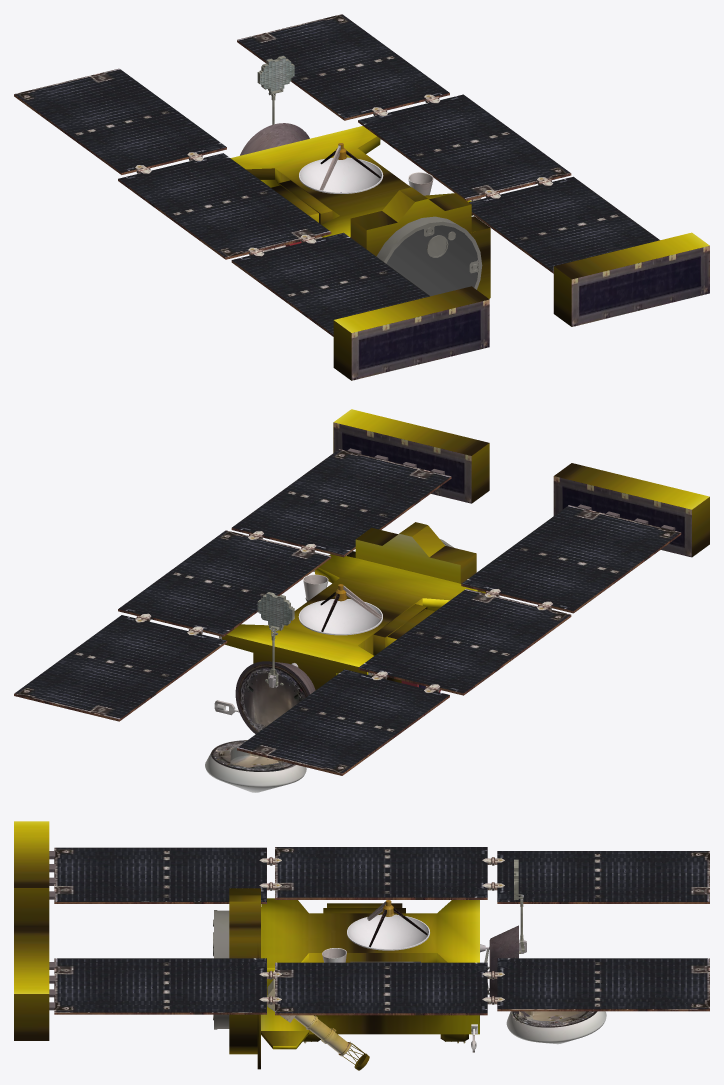
File: stardust.glb
3 views of the same model, one above another, from view 1: azimuth 30°, elevation 25°; view 2: azimuth 150°, elevation 25°; view 3: azimuth 270°, elevation 25° (orthographic).
Visible parts, largest first — view 1: shiny_panels, gold_foil, foil_silver, Stardust_tex_02, Stardust_tex_03; view 2: shiny_panels, gold_foil, Stardust_tex_03, Stardust_tex_02; view 3: shiny_panels, gold_foil, Stardust_tex_02, Stardust_tex_03.
Part boxes in pixels (left/top/right/bottom): shiny_panels: left=14, top=14, right=709, bottom=380; gold_foil: left=230, top=126, right=709, bottom=380; foil_silver: left=386, top=225, right=477, bottom=296; Stardust_tex_02: left=257, top=56, right=482, bottom=289; Stardust_tex_03: left=299, top=143, right=383, bottom=193; shiny_panels: left=14, top=422, right=691, bottom=792; gold_foil: left=222, top=409, right=709, bottom=690; Stardust_tex_03: left=211, top=584, right=382, bottom=771; Stardust_tex_02: left=257, top=539, right=454, bottom=692; shiny_panels: left=49, top=847, right=709, bottom=1065; gold_foil: left=14, top=821, right=479, bottom=1070; Stardust_tex_02: left=54, top=859, right=709, bottom=1056; Stardust_tex_03: left=347, top=900, right=597, bottom=1027.
Size of the model in its own units: 2.94 by 1.45 by 5.01.
5 materials, 5 textured.
